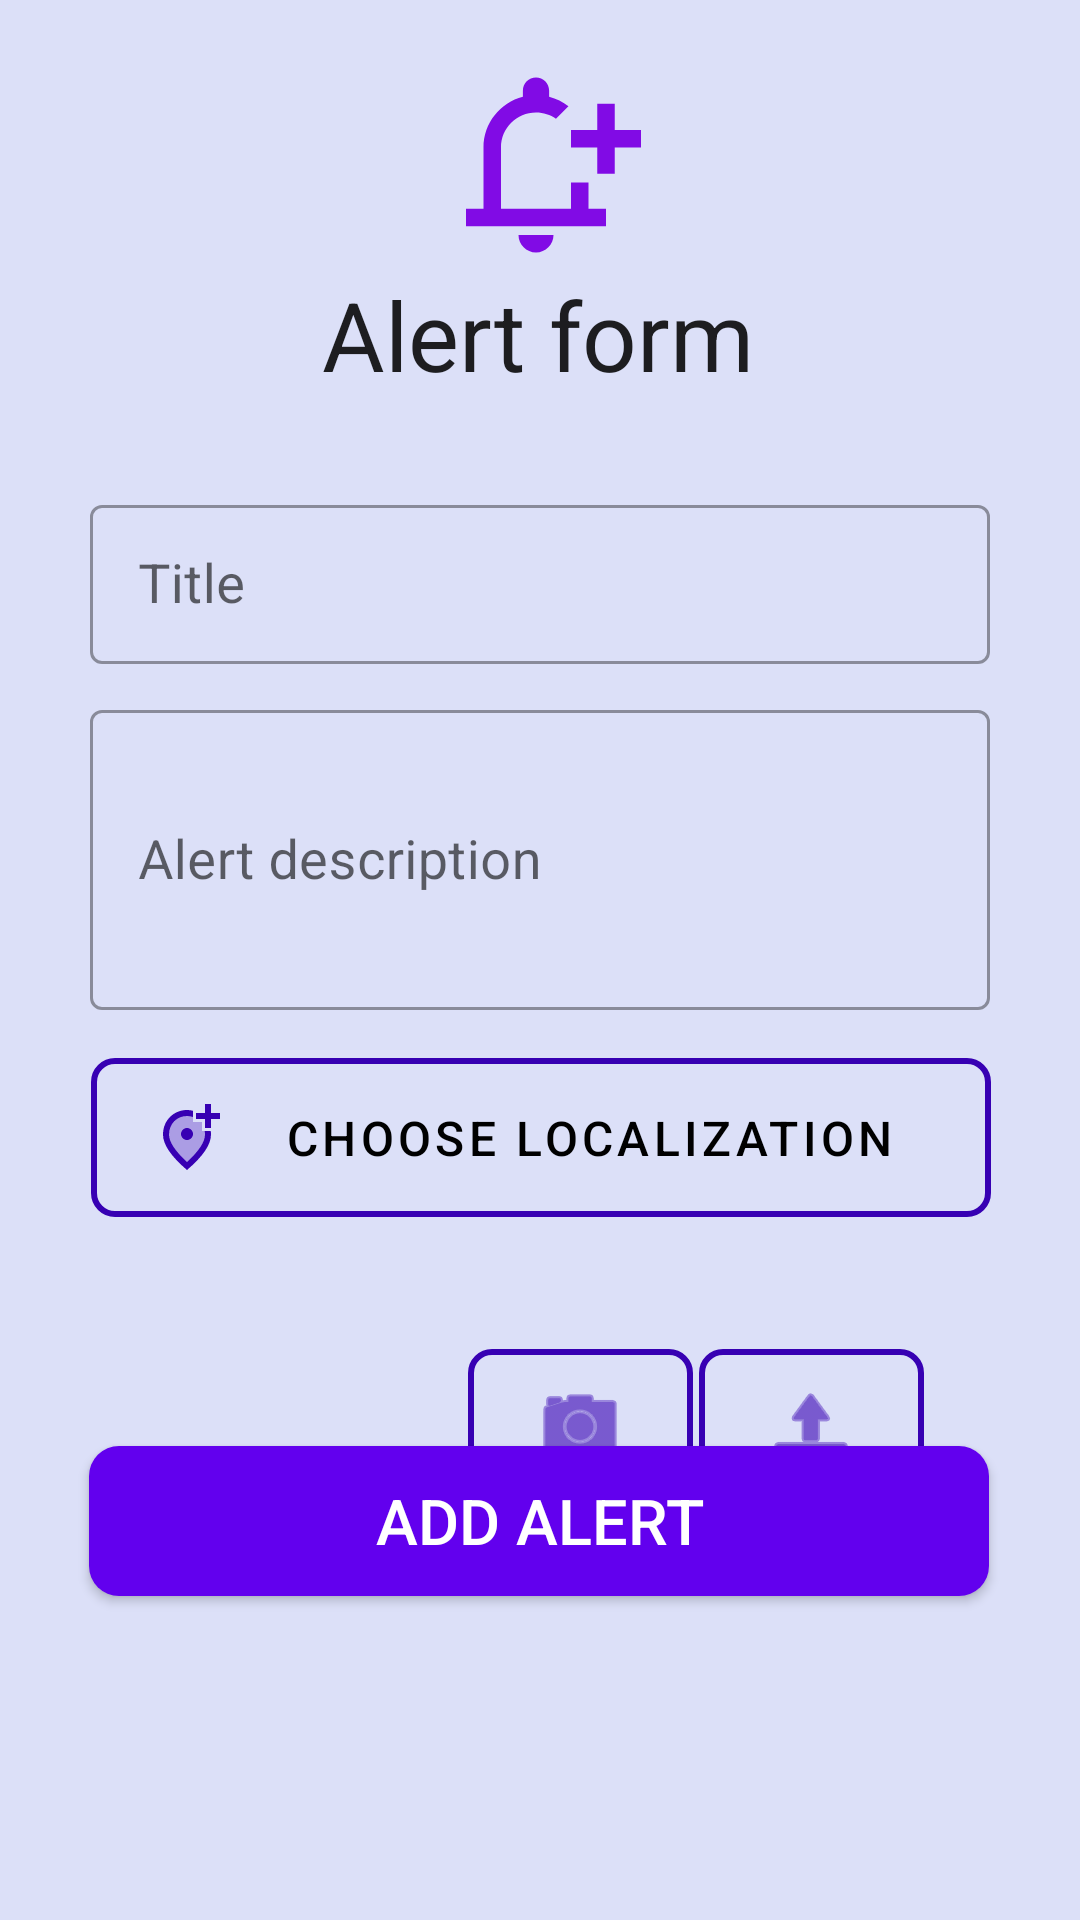

Where icons sit on this 1080×1920 app screen, as bbox=(x1, y1, x2, y2):
notification add: bbox=(466, 77, 641, 253)
